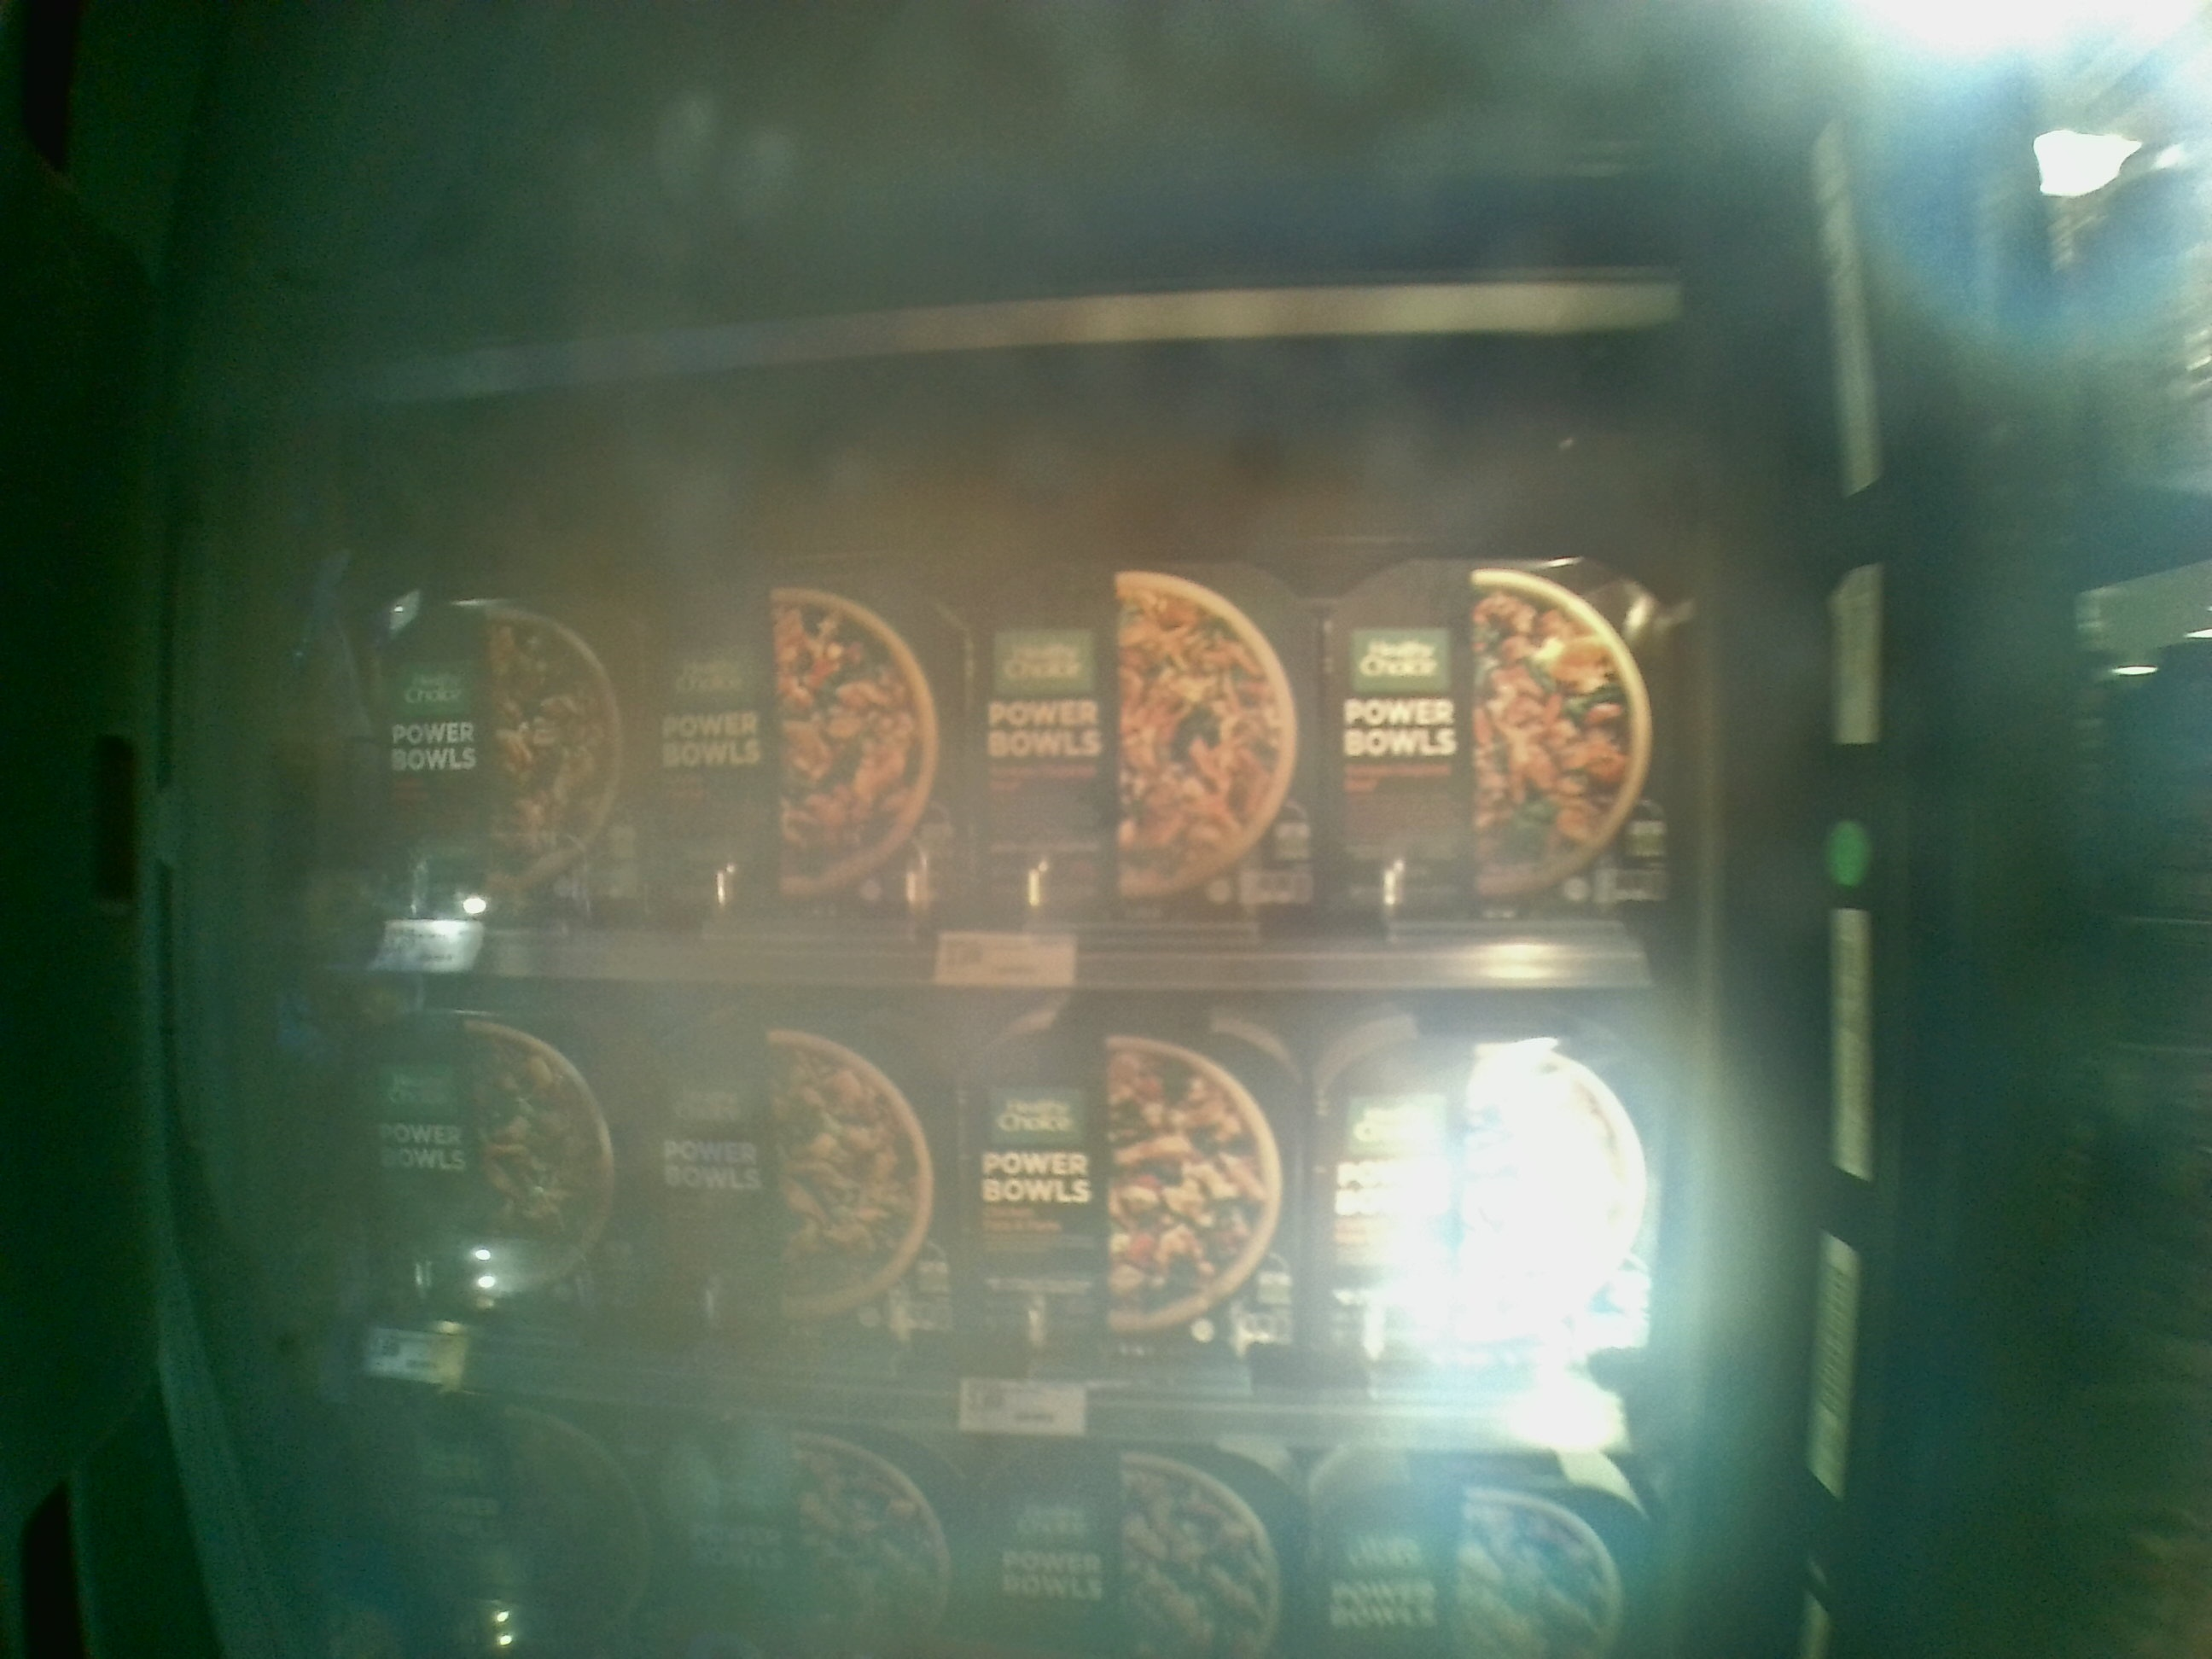shelf: (256, 312, 1683, 988), (265, 974, 1709, 1446)
